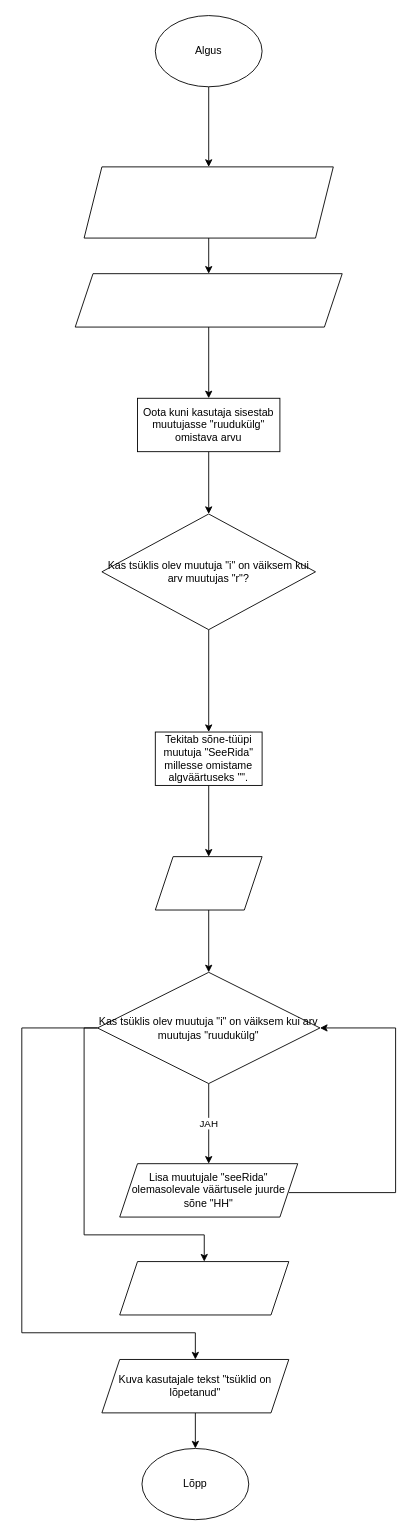
The diagram is 418 pixels wide and 1535 high, and some of its shapes have lost their labels. Each missing label, with the centre of its shape:
Kuva kasutajale muutuja "seeRida": point (204, 1288)
Kuva kasutajale tekst "Kui suurt ruutu te tahate": point (208, 300)
Seadista teine for-tsükkel millel on tsükli töö jaoks muutuja "i": point (208, 883)
Tekita täisarvu tüüpi muutuja "ruudukülg" kuhu omistad algväärtuse 0: point (208, 202)
